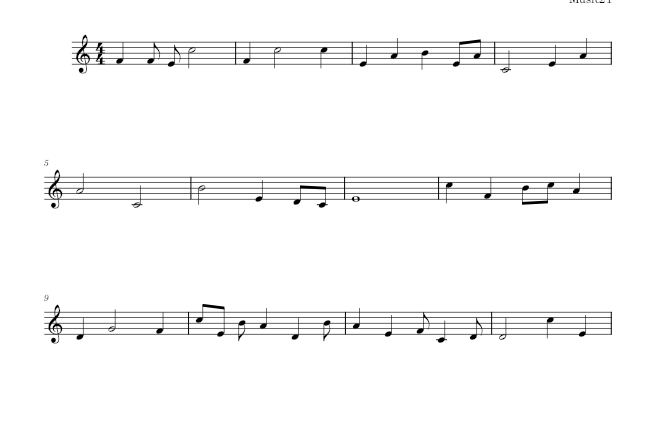Treble Clef: (71, 30, 92, 79), (45, 168, 68, 211), (45, 302, 66, 348)
